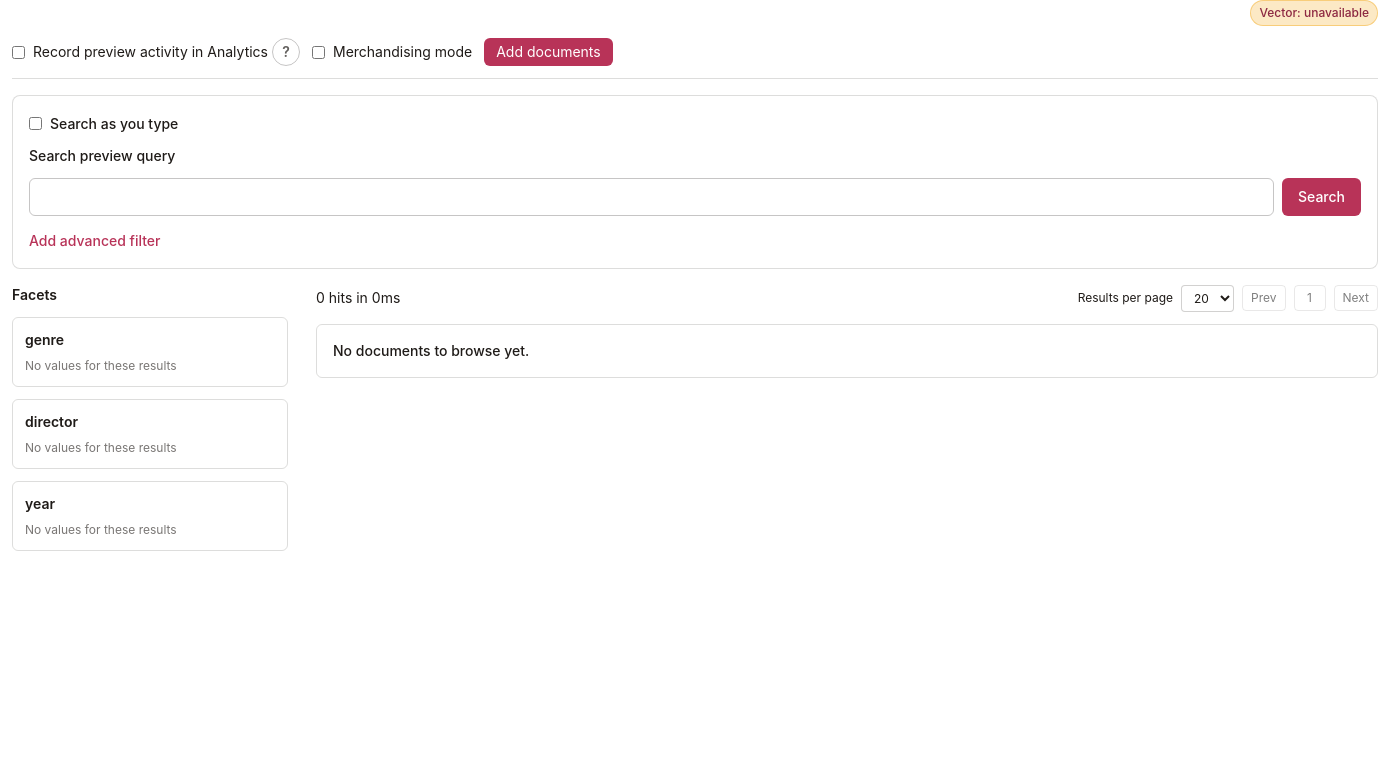
it: InstantSearch facet configuration › renders standard facets response with exact configured Movies counts
Type "dark" into the search field labelled "Search preview query" at (652, 196), box 29,178 -> 1274,216
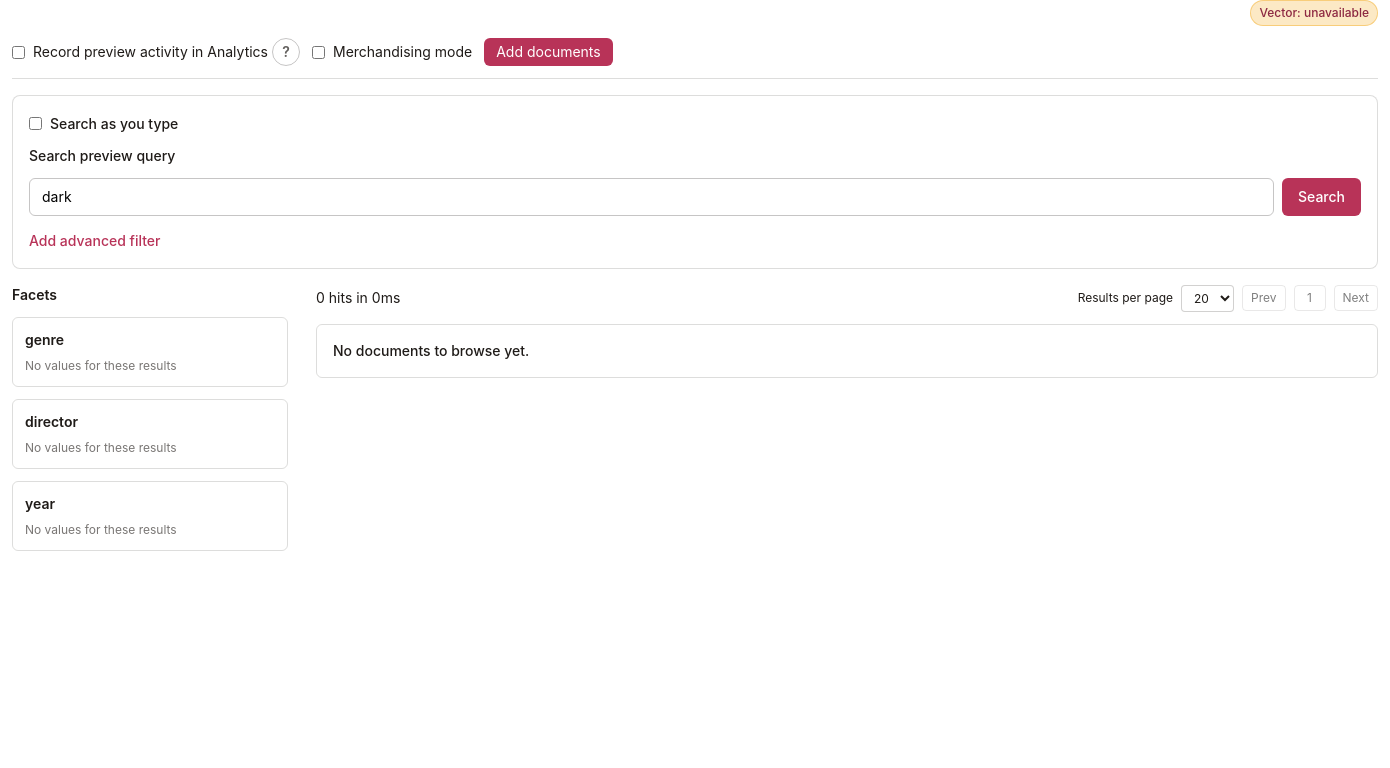
Press Enter in the search field labelled "Search preview query", box 29,178 -> 1274,216
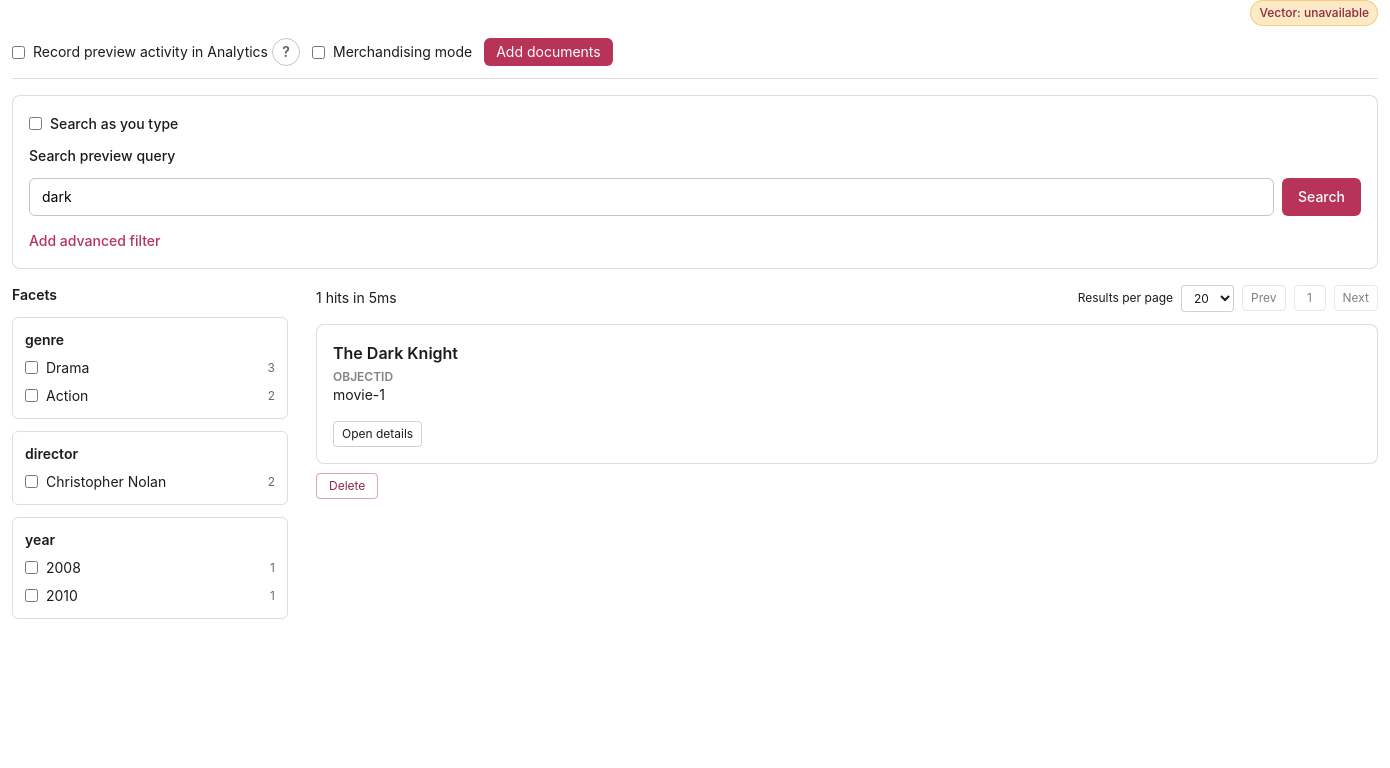
Expected: the element with test id "facet-panel-genre" shows "Action", 46,386 -> 88,404
Expected: the element with test id "facet-panel-genre" shows "2", 268,388 -> 275,402
Expected: the element with test id "facet-panel-genre" shows "Drama", 46,358 -> 89,376
